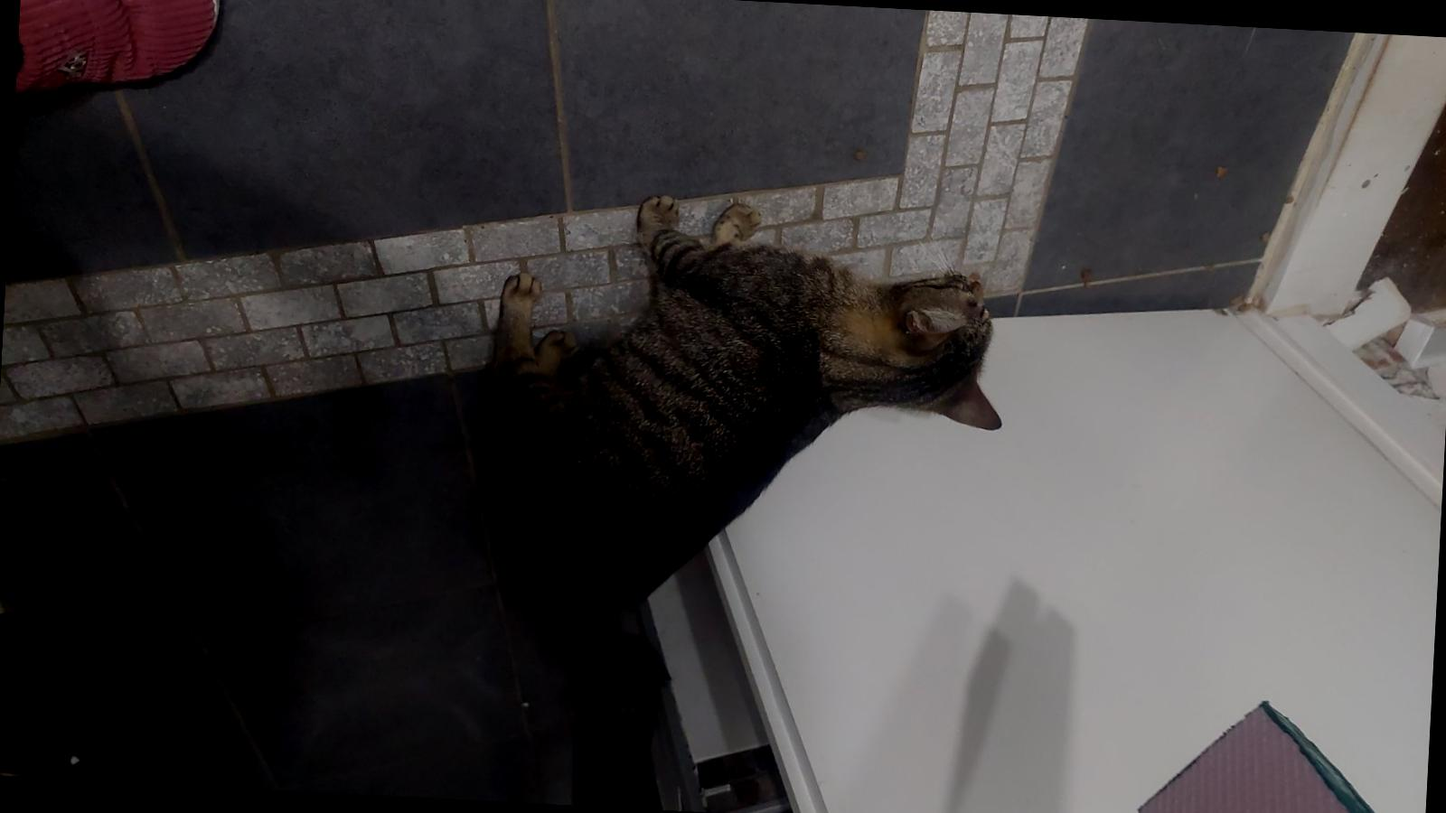macka: (471, 183, 1015, 812)
